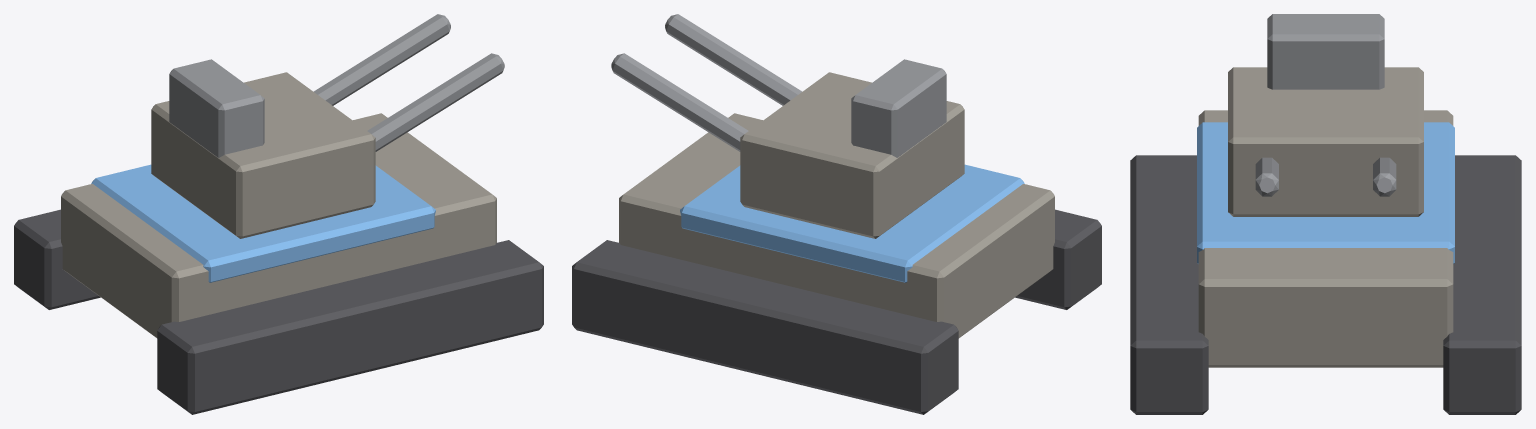
The model's file is hailstorm.glb.
3 views of the same model, side by side, from view 1: azimuth 30°, elevation 25°; view 2: azimuth 150°, elevation 25°; view 3: azimuth 270°, elevation 25° (orthographic). The views are drawn at different scales.
Parts seen in each view (by area): view 1: Hull, Turret; view 2: Hull, Turret; view 3: Hull, Turret.
Boxes of the visible parts, <box> form: Hull: <box>14,113,543,414</box>; Turret: <box>151,14,504,238</box>; Hull: <box>572,113,1101,414</box>; Turret: <box>611,14,964,238</box>; Hull: <box>1130,110,1521,414</box>; Turret: <box>1228,14,1423,216</box>.
Size of the model in its own units: 2.42 by 1.49 by 2.
